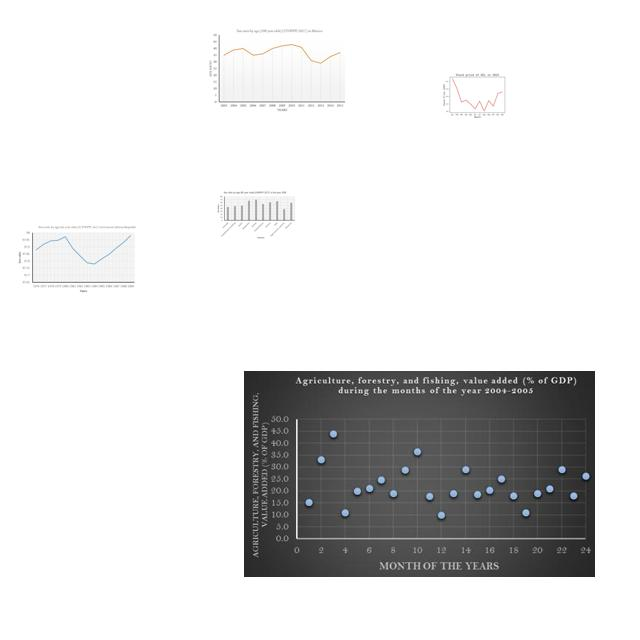Graph: (244, 371, 595, 577), (207, 27, 346, 114), (15, 224, 137, 296), (214, 190, 296, 239), (441, 68, 512, 121)
